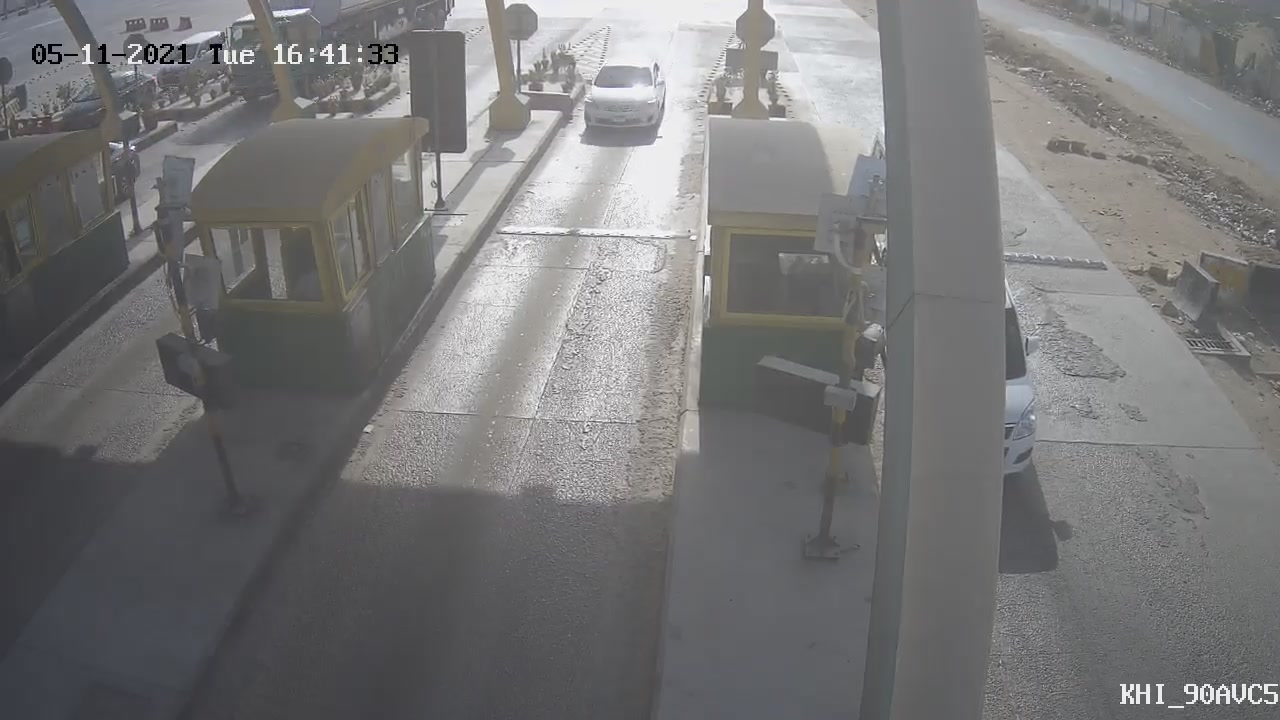F1: (574, 47, 676, 153)
